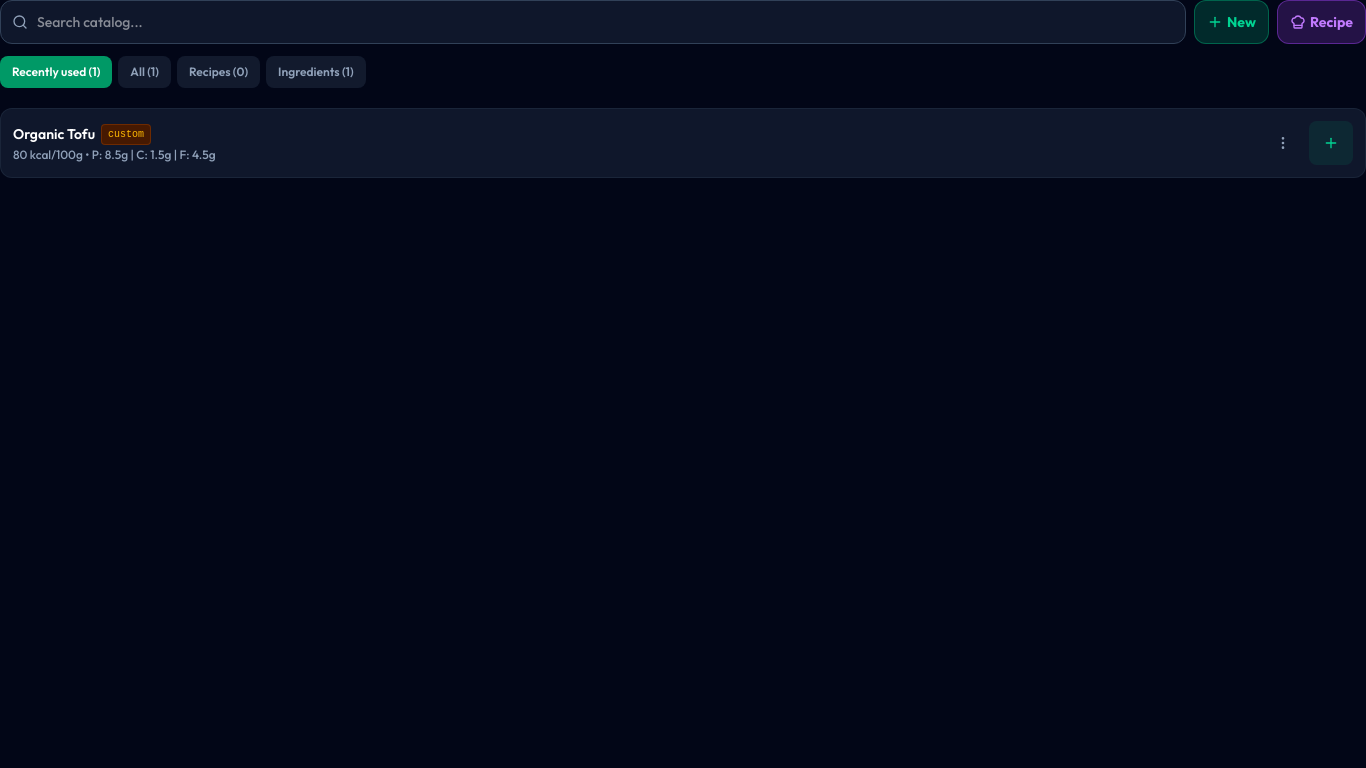
Test case: CatalogManager - Custom Portions UI › opens IngredientBuilder prefilled when edit option in context menu of custom ingredient is clicked
// Open context menu for the ingredient
Click the button named "Item options" at (1283,143), box [1261,121,1305,165]
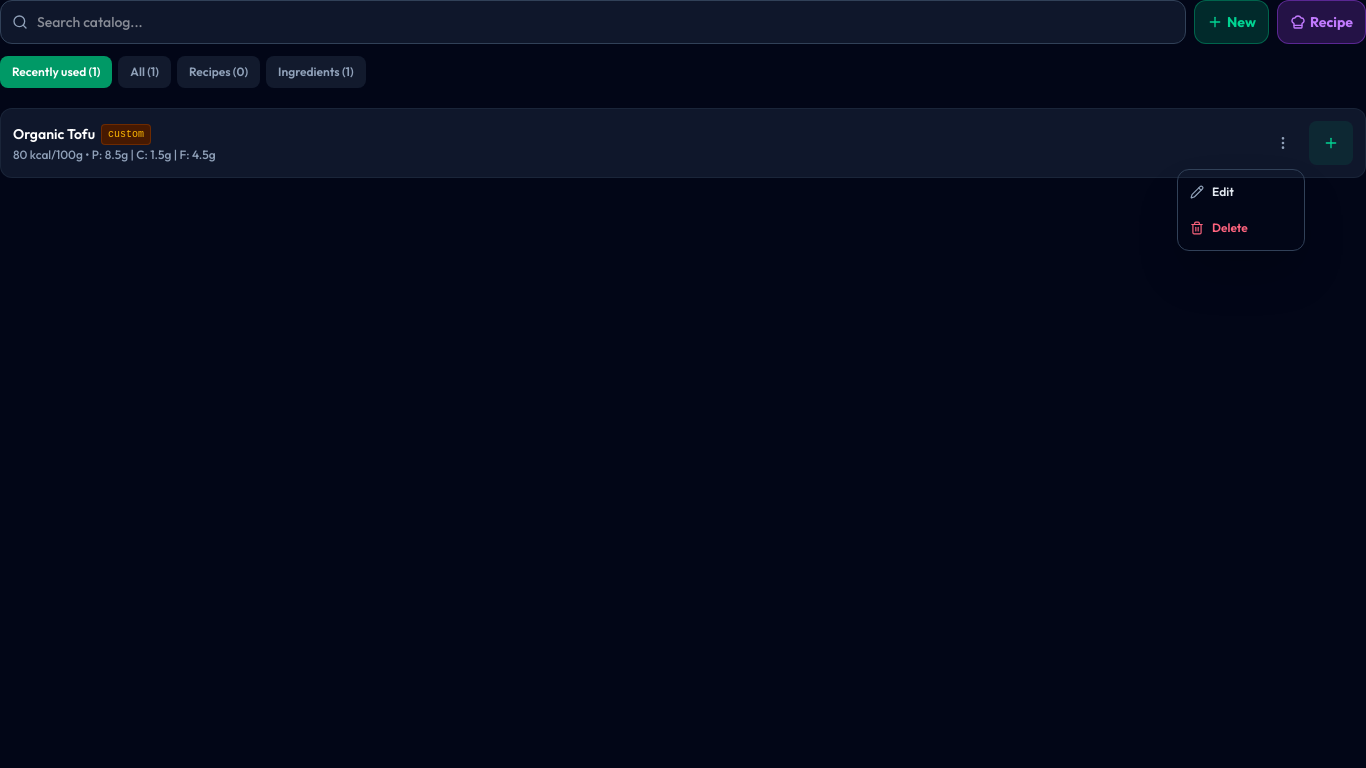
Click the menu item with aria-label "Edit custom ingredient" at (1241,192), box [1178,174,1304,210]
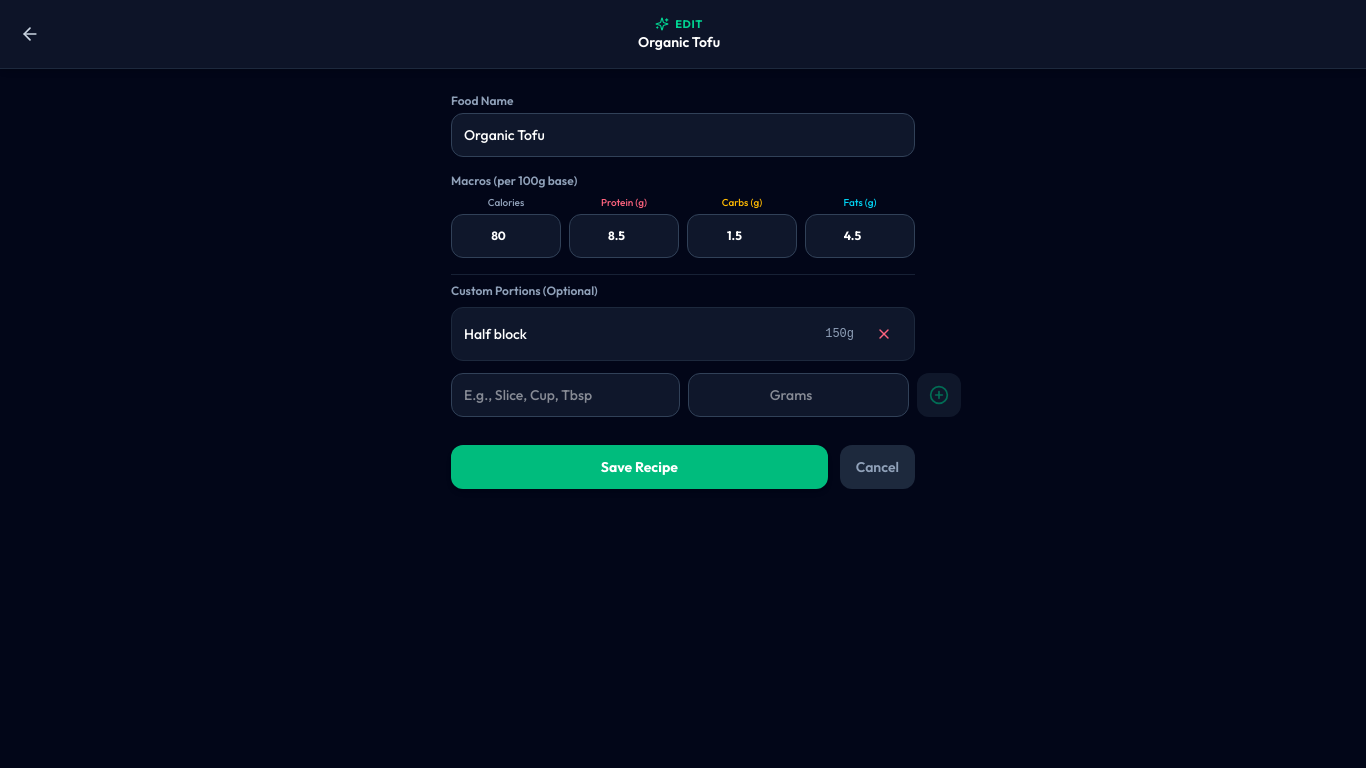
expect the dialog is shown: met
expect the button with test id "btn-back-ingredient-builder" is shown: met, box [8,12,52,56]
expect the field showing "Organic Tofu" is shown: met, box [451,113,915,157]
